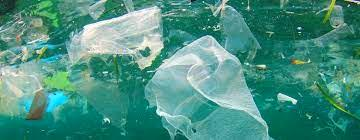Trash: (135, 35, 282, 139)
